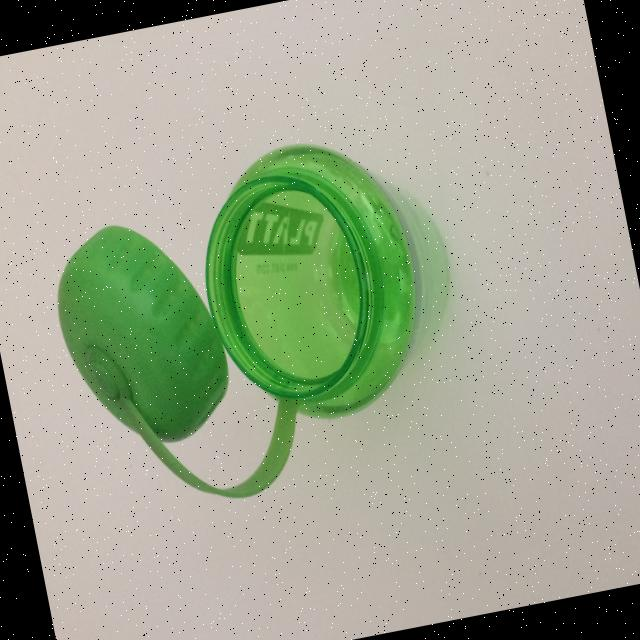plastic: (26, 92, 542, 561)
